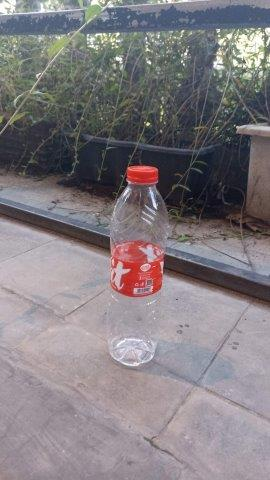botolplastik: (107, 167, 167, 363)
